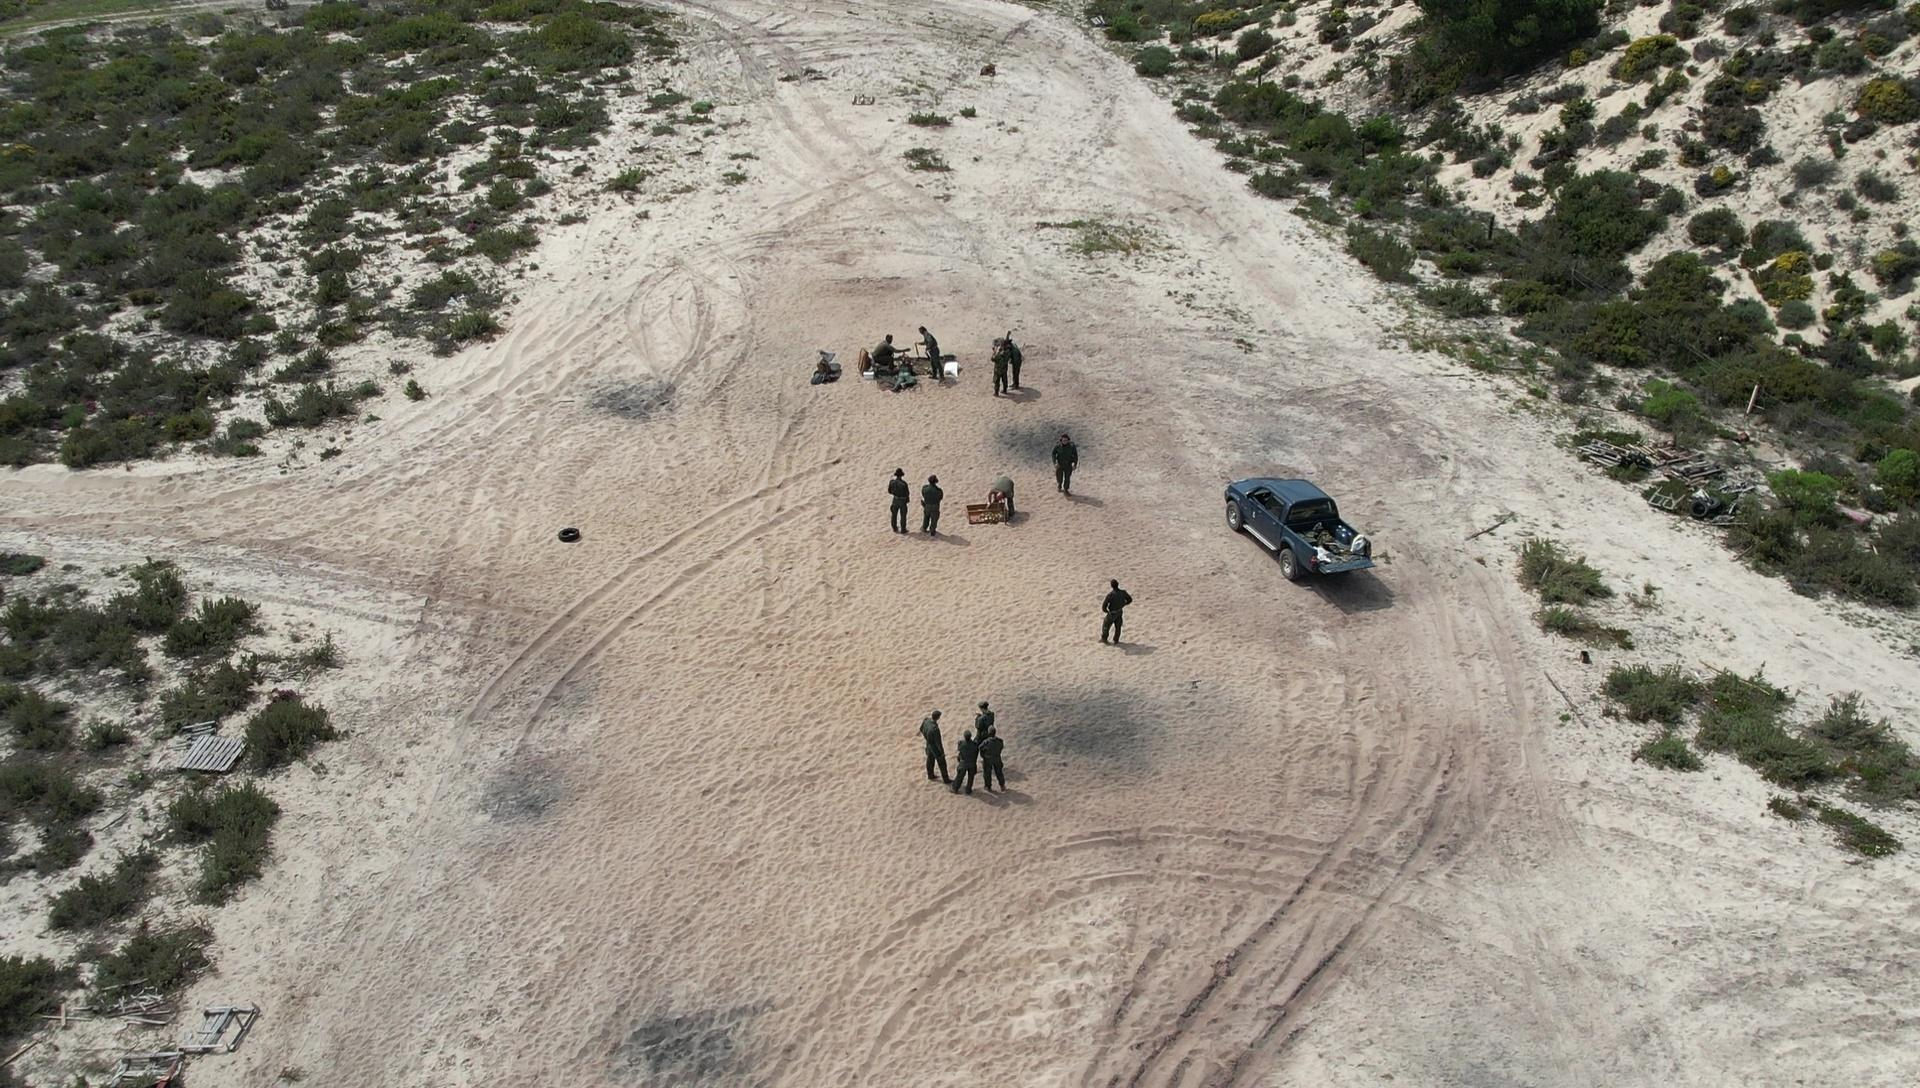Soldier: (914, 702, 957, 789), (913, 320, 957, 389), (1097, 576, 1135, 653), (1044, 425, 1083, 500), (973, 720, 1013, 793), (881, 460, 914, 543), (949, 727, 982, 801), (986, 466, 1023, 530), (918, 469, 949, 542), (872, 328, 905, 373), (992, 343, 1015, 401), (891, 359, 920, 396), (972, 692, 998, 728)
